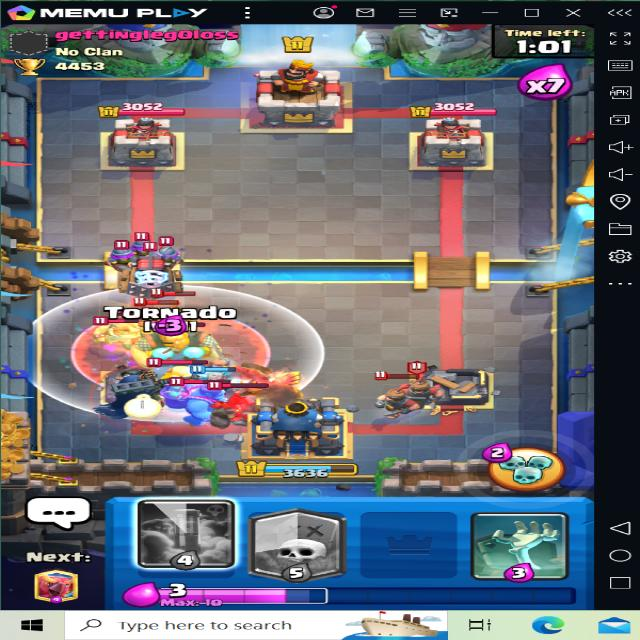electro-barbarians: (86, 310, 142, 341)
electro-giant: (140, 349, 226, 391)
goblin-giant: (155, 370, 244, 422)
golem: (203, 382, 289, 435)
musketeer: (150, 234, 192, 272), (129, 223, 165, 260), (101, 240, 139, 272)
royal-giant: (132, 318, 226, 357)
royal-recruits: (396, 366, 443, 403), (377, 378, 422, 416)
sparky: (120, 242, 190, 298)
